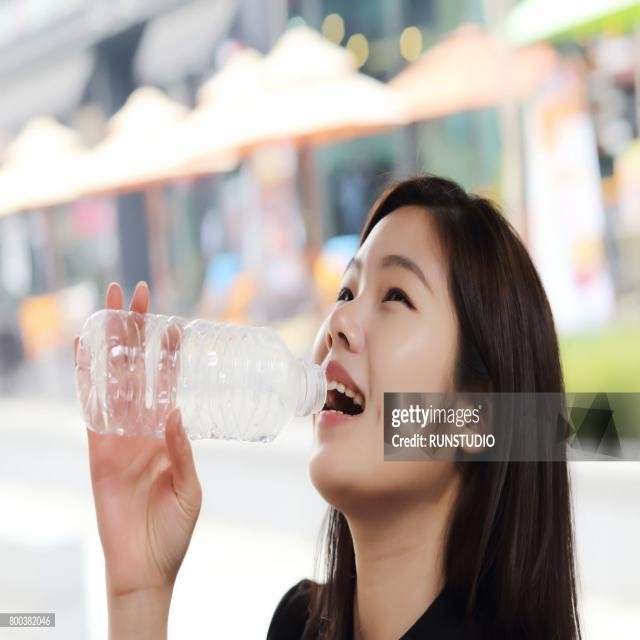bottle: (74, 305, 328, 444)
